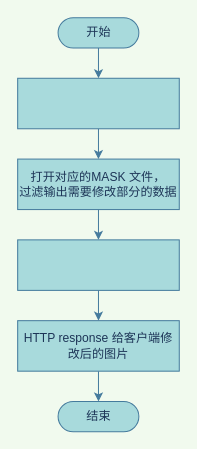
Some shapes in this 197 by 449 pixel diagram are drawn without their labels. The centre of each missing label's shape, as x and y in pixels:
HTTP request 从客户端得到要处理的人脸部位、改成的颜色: the point at 98,103
把这部分数据改成目标颜色，并处理一下使颜色更自然些: the point at 98,264
